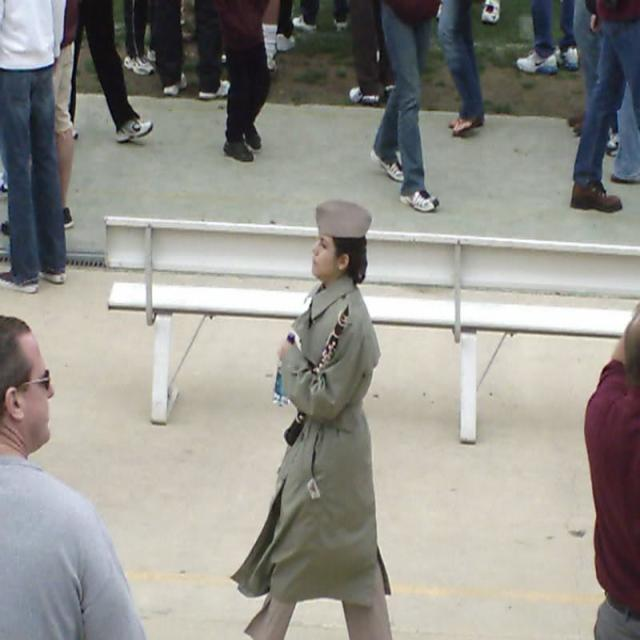clarinet: (282, 301, 353, 447)
